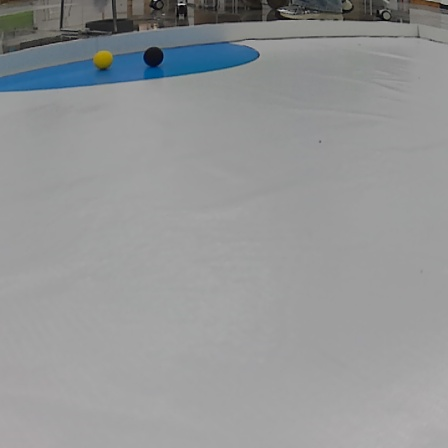black: (142, 46, 164, 64)
blue_base: (0, 42, 269, 92)
yellow: (93, 50, 114, 70)
